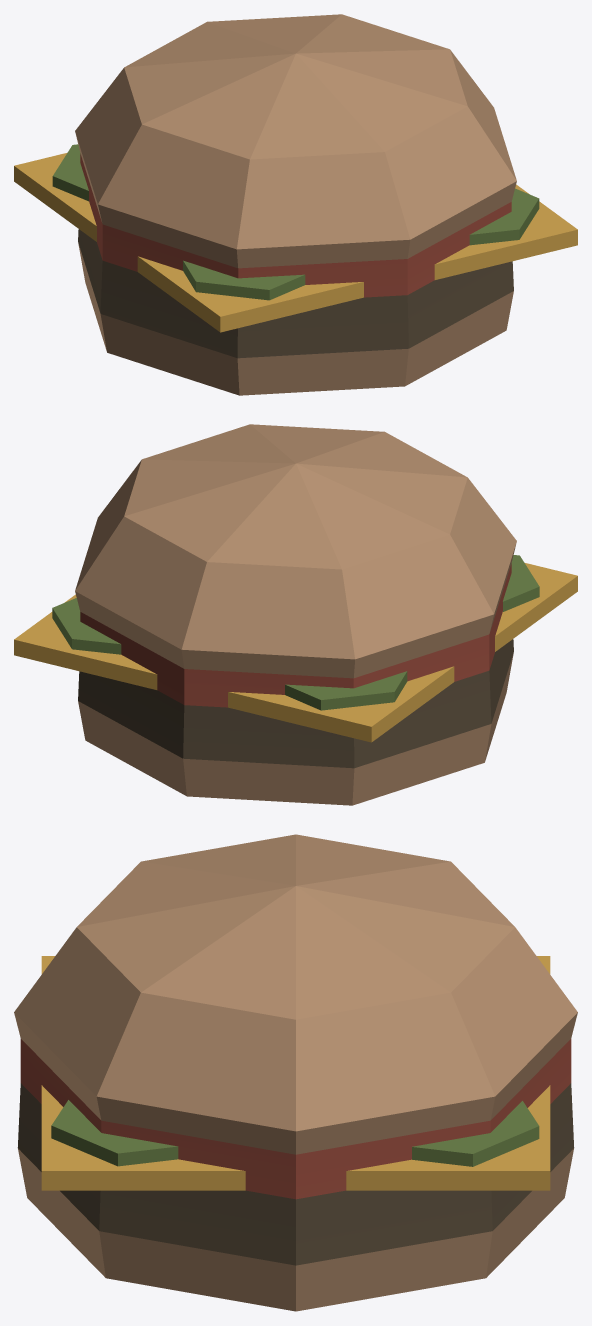
The model's file is SM_Prop_Sign_Burger_01.fbx.
3 renders of one model, top to bottom at view 1: azimuth 30°, elevation 25°; view 2: azimuth 150°, elevation 25°; view 3: azimuth 270°, elevation 25°, orthographic. The views are drawn at different scales.
Visible parts, largest first — view 1: SM_Prop_Sign_Burger_01; view 2: SM_Prop_Sign_Burger_01; view 3: SM_Prop_Sign_Burger_01.
Boxes of the visible parts, x1,y1,x2,y2 form: SM_Prop_Sign_Burger_01: (14, 14, 577, 395); SM_Prop_Sign_Burger_01: (14, 424, 577, 805); SM_Prop_Sign_Burger_01: (14, 834, 577, 1311).
Bounding box in the file's own units: 67.7 × 41.32 × 67.7.
